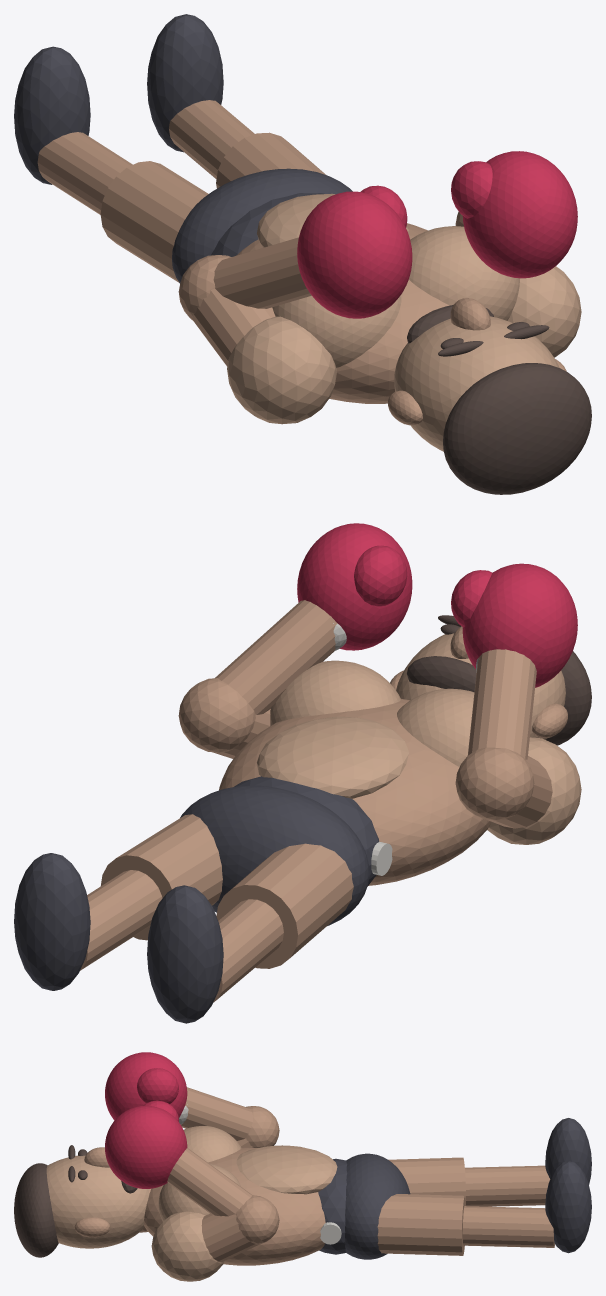
Rendered from boxer.glb.
3 views of the same model, one above another, from view 1: azimuth 30°, elevation 25°; view 2: azimuth 150°, elevation 25°; view 3: azimuth 270°, elevation 25° (orthographic). The views are drawn at different scales.
Visible parts, largest first — view 1: hair, glove-1, glove1, shoulder-1, head, thigh-1, boot-1, boot1, shorts, chest_right, torso, forearm-1 (+14 smaller); view 2: torso, shorts, glove-1, abs, thigh-1, boot-1, boot1, glove1, forearm1, thigh1, forearm-1, chest_right (+14 smaller); view 3: head, torso, glove1, thigh1, shorts, abs, calf1, shoulder1, boot1, calf-1, hair, forearm1 (+14 smaller).
Part boxes in pixels (box(x1,y1,x2,y2)): hair: box(443, 363, 591, 494); glove-1: box(297, 191, 412, 318); glove1: box(462, 151, 577, 278); shoulder-1: box(227, 316, 336, 424); head: box(394, 316, 559, 451); thigh-1: box(100, 161, 208, 282); boot-1: box(14, 46, 90, 184); boot1: box(147, 14, 223, 152); shorts: box(172, 168, 352, 283); chest_right: box(409, 226, 519, 320); torso: box(236, 223, 449, 403); forearm-1: box(213, 237, 311, 308); torso: box(219, 699, 490, 885); shorts: box(180, 785, 369, 925); glove-1: box(462, 563, 577, 687); abs: box(257, 716, 408, 798); thigh-1: box(216, 843, 353, 968); boot-1: box(147, 885, 223, 1023); boot1: box(14, 853, 90, 990); glove1: box(297, 523, 412, 650); forearm1: box(215, 600, 337, 714); thigh1: box(101, 814, 222, 940); forearm-1: box(467, 649, 536, 759); chest_right: box(270, 660, 400, 725); head: box(46, 1155, 149, 1248); torso: box(144, 1147, 325, 1265); glove1: box(105, 1105, 187, 1188); thigh1: box(377, 1194, 465, 1255); shorts: box(345, 1153, 410, 1259); abs: box(236, 1145, 337, 1194); calf1: box(462, 1206, 554, 1247); shoulder1: box(151, 1211, 224, 1281); boot1: box(545, 1161, 591, 1253); calf-1: box(465, 1165, 550, 1206); hair: box(14, 1163, 58, 1257); forearm1: box(167, 1148, 252, 1216).
Bounding box in the file's own units: 1.92 × 1.36 × 4.2.
